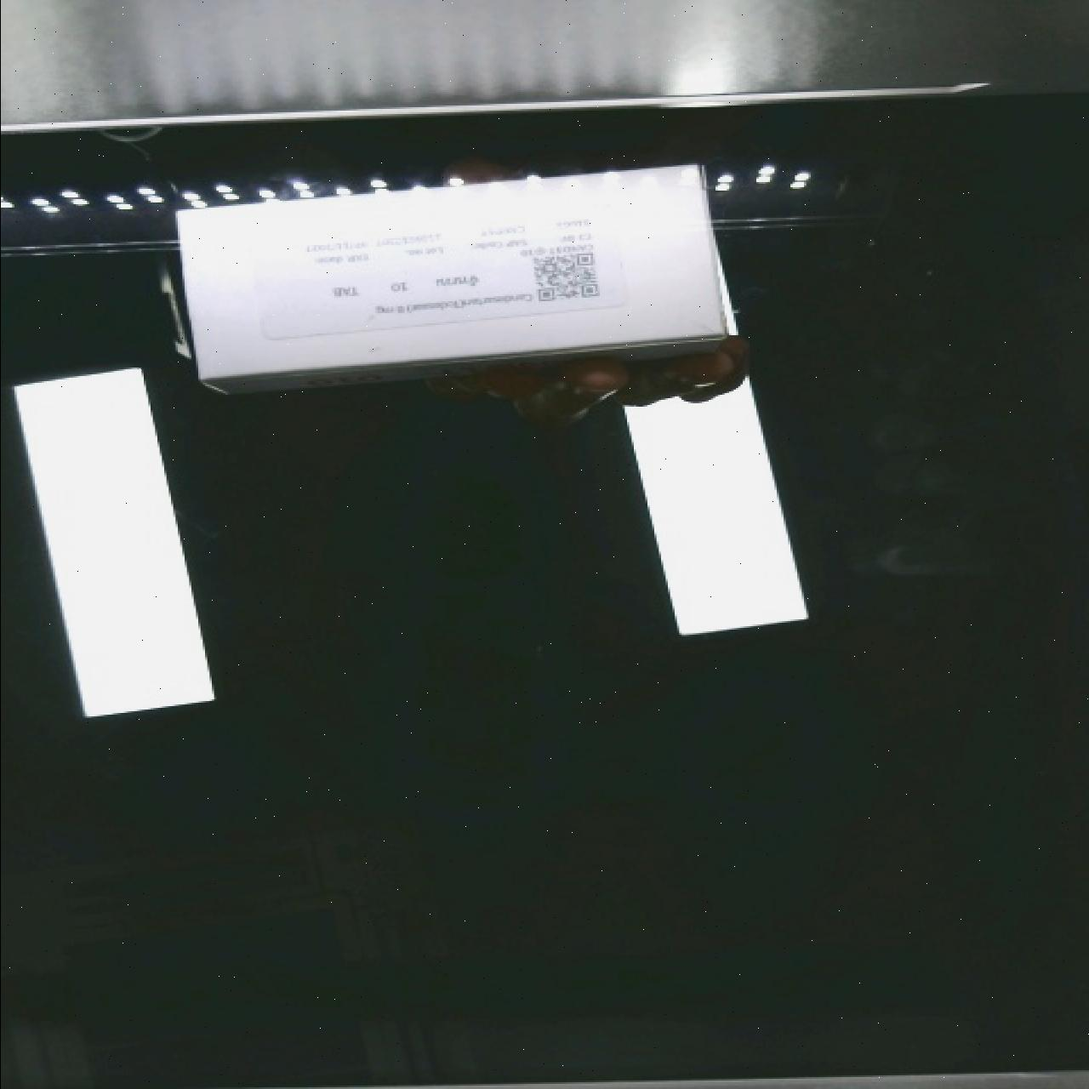qr_code: (508, 233, 624, 316)
